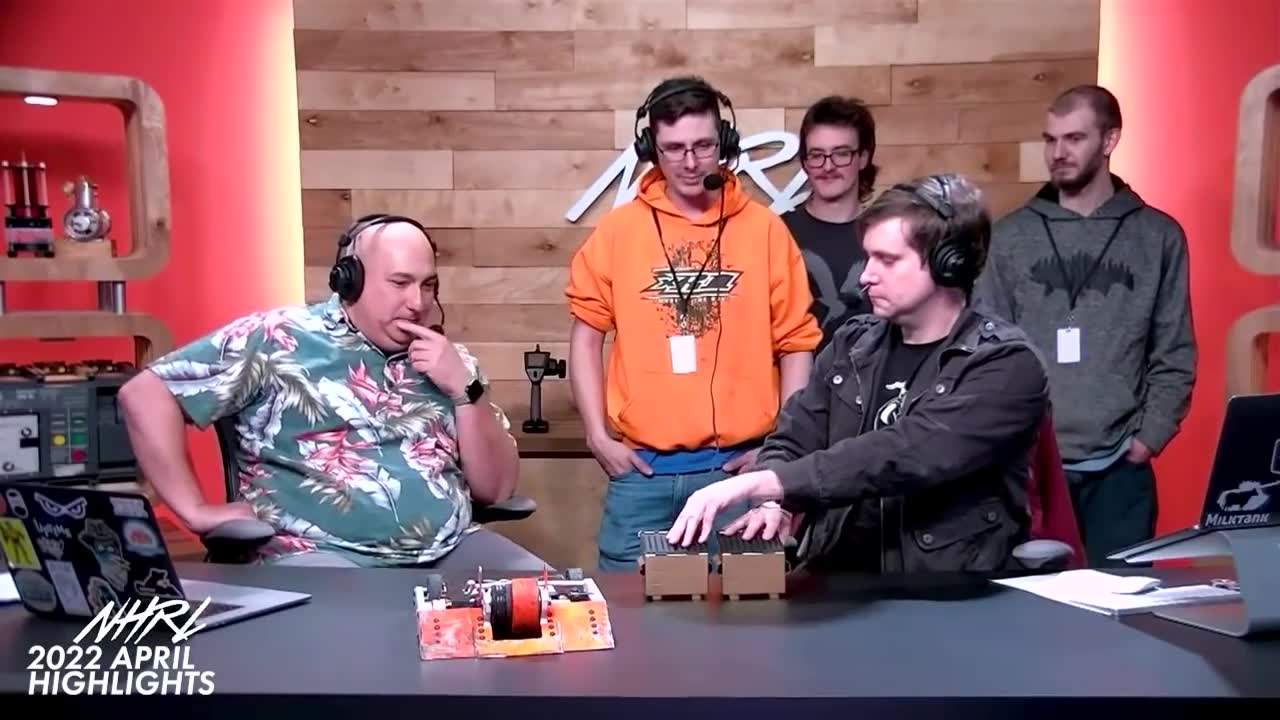combatbot: (411, 562, 616, 665), (639, 251, 744, 339)
